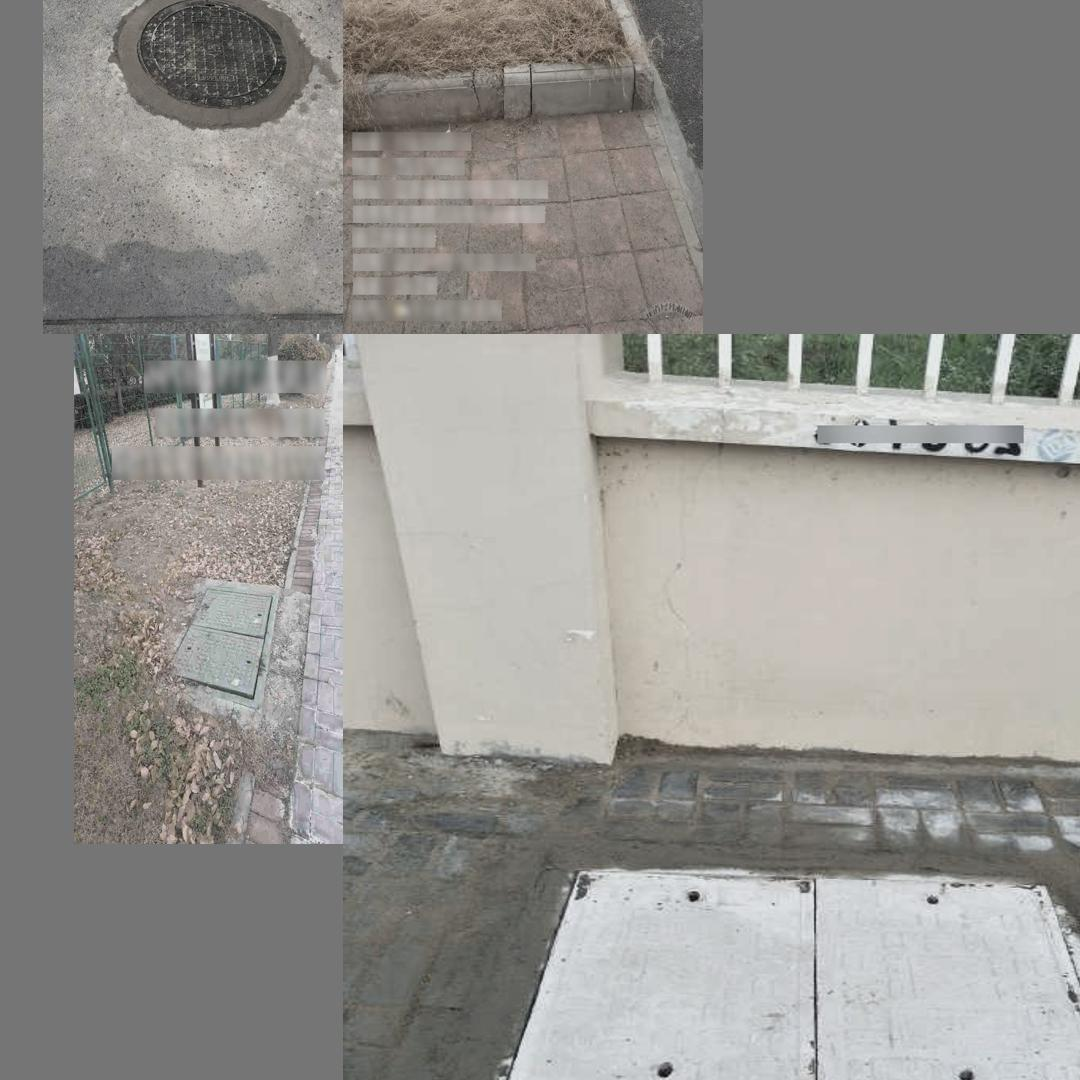good: (495, 867, 1080, 1080), (110, 0, 320, 132), (161, 585, 279, 700)
